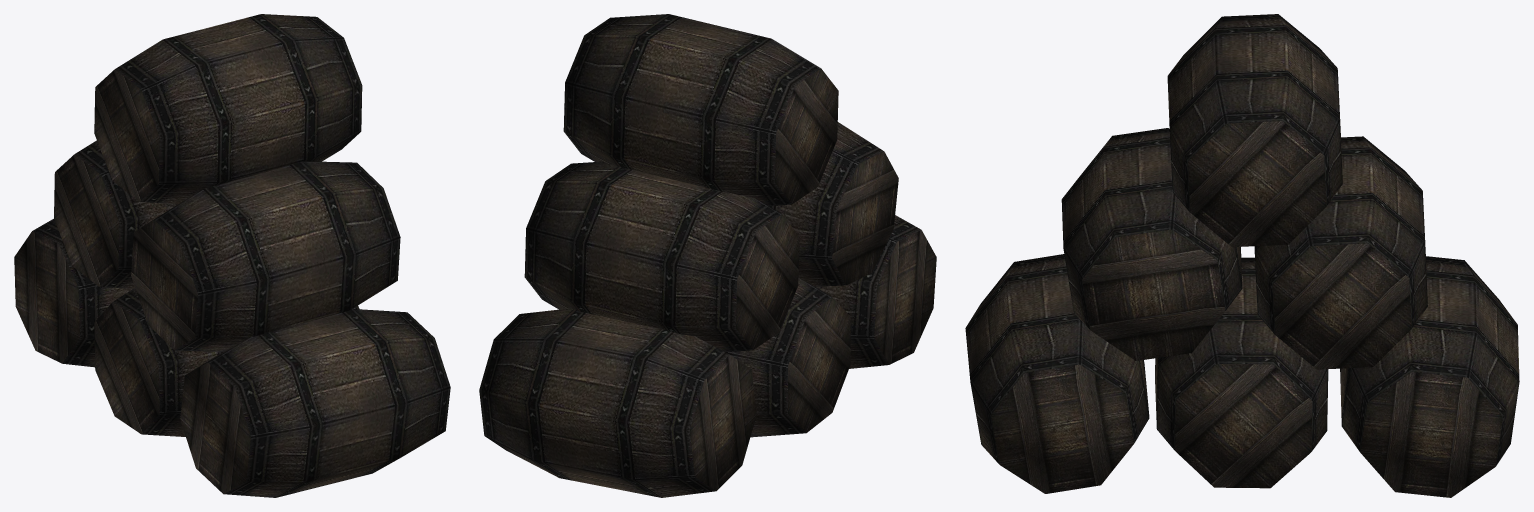
File: KM_VOB_SIX_BARRELS_01.glb
3 views of the same model, side by side, from view 1: azimuth 30°, elevation 25°; view 2: azimuth 150°, elevation 25°; view 3: azimuth 270°, elevation 25° (orthographic). The views are drawn at different scales.
Visible parts, largest first — view 1: Mesh; view 2: Mesh; view 3: Mesh.
Boxes of the visible parts, x1,y1,x2,y2 form: Mesh: [14, 14, 450, 497]; Mesh: [479, 14, 936, 497]; Mesh: [965, 14, 1519, 497].
Size of the model in its own units: 1.19 by 1.94 by 2.4.
Materials: 1 (1 with a texture image).
